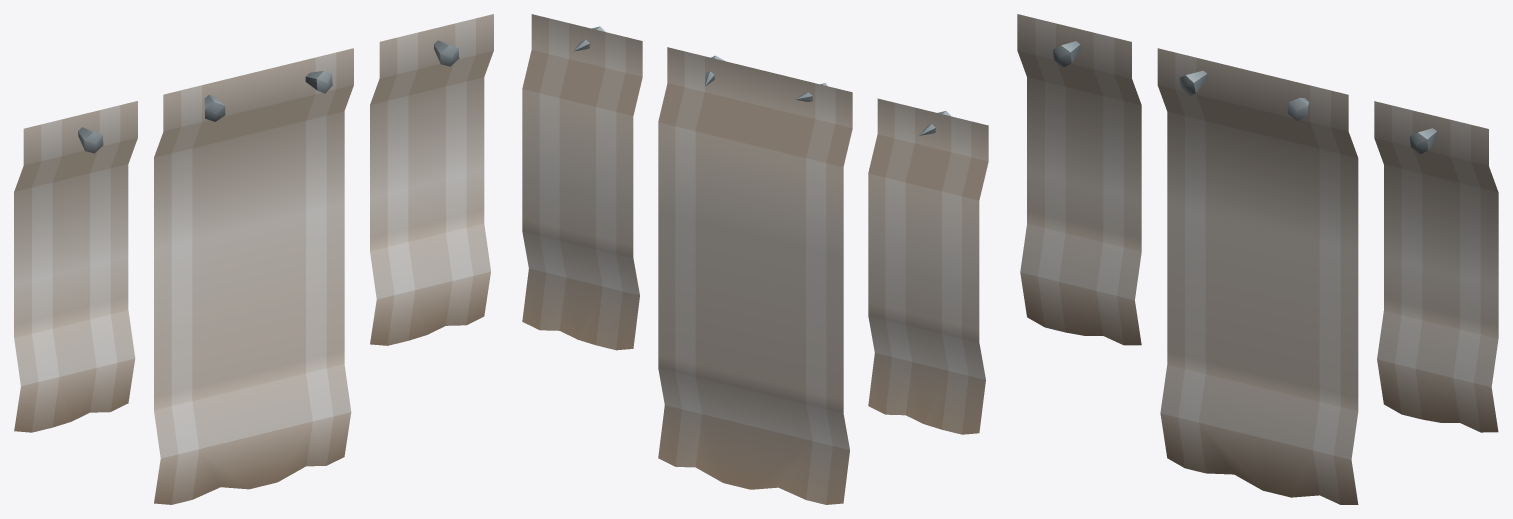
File: banner_triple_white.gltf
The picture shows the model from 3 angles, left to right: view 1: azimuth 30°, elevation 25°; view 2: azimuth 150°, elevation 25°; view 3: azimuth 330°, elevation 25°; orthographic projection. The views are drawn at different scales.
Parts seen in each view (by area): view 1: banner_triple_white; view 2: banner_triple_white; view 3: banner_triple_white.
Part boxes in pixels (left/top/right/bottom): banner_triple_white: left=14, top=14, right=493, bottom=504; banner_triple_white: left=522, top=14, right=988, bottom=504; banner_triple_white: left=1017, top=14, right=1498, bottom=504.
Bounding box in the file's own units: 3.7 × 3.2 × 0.3623.
1 material, 1 textured.
